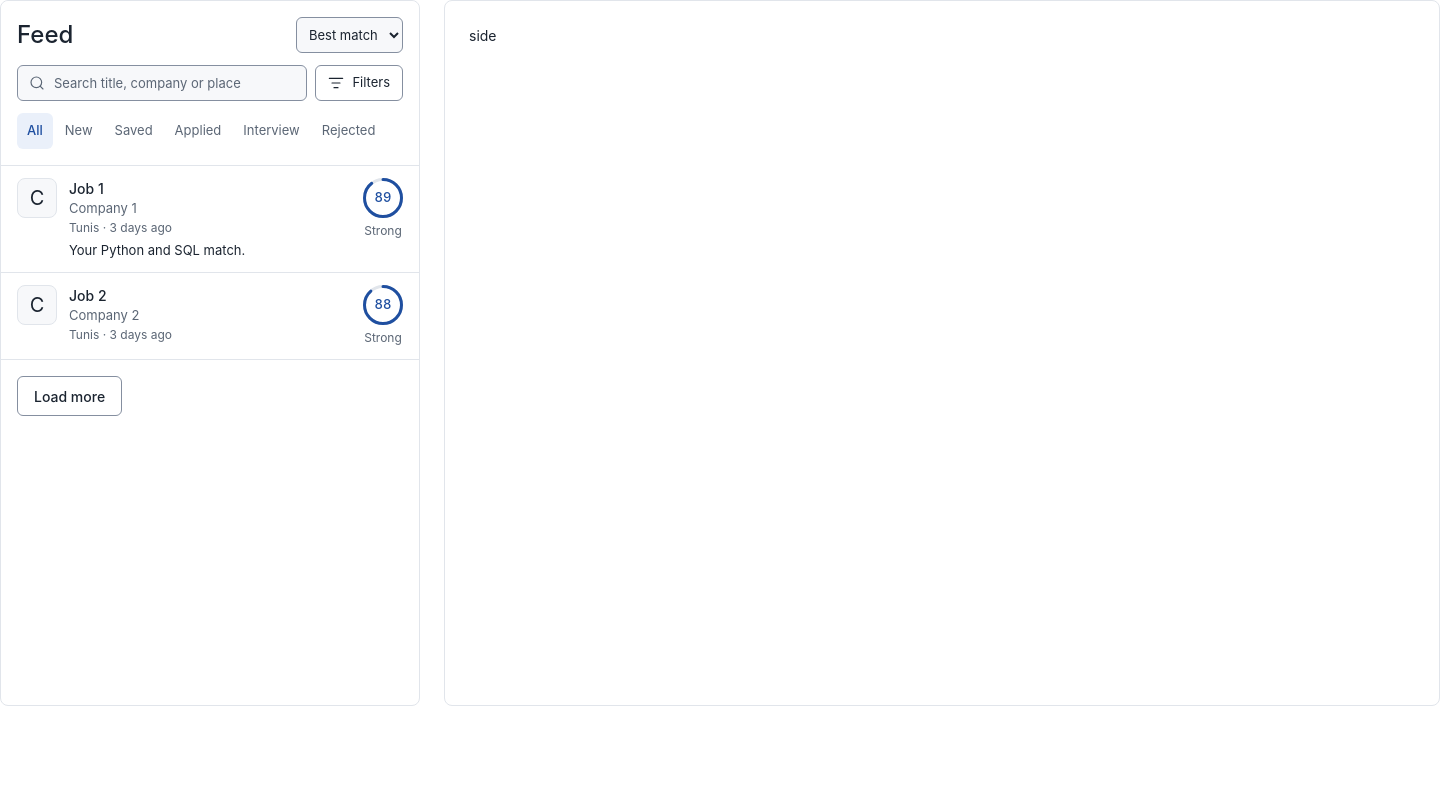
Test: feed list › loads the next page with the cursor, and the button goes when there is no next cursor
What coordinates should you click on to do the following:
click the button "Load more"
I would click on:
 (70, 396)
Its box is top-left (17, 376), bottom-right (122, 416).
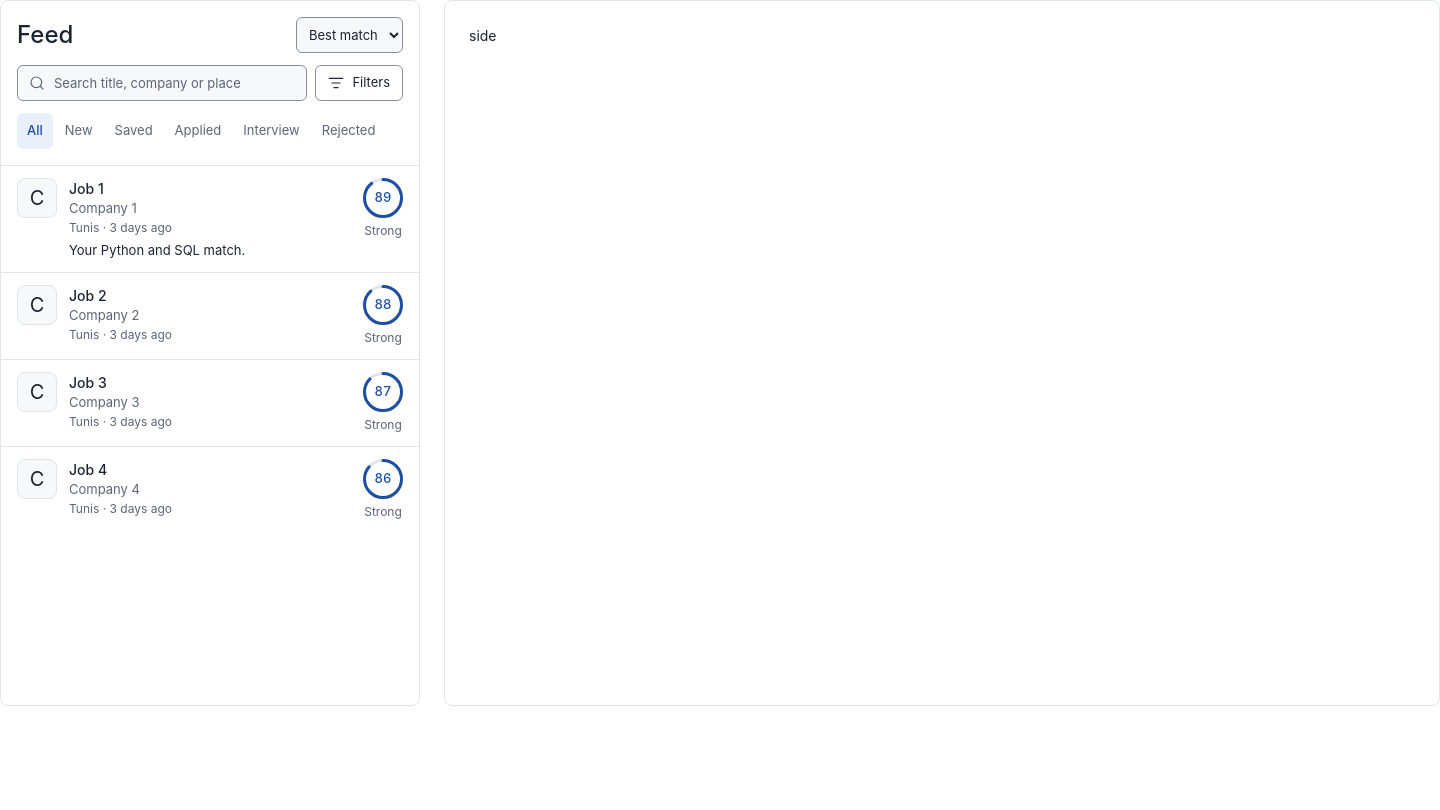
Check: the text "Job 4" is shown, box top-left (69, 461), bottom-right (107, 478)
Check: the number of list items is 4, box top-left (1, 166), bottom-right (419, 273); top-left (1, 273), bottom-right (419, 360); top-left (1, 360), bottom-right (419, 447); top-left (1, 447), bottom-right (419, 533)
Check: the button "Load more" is gone
